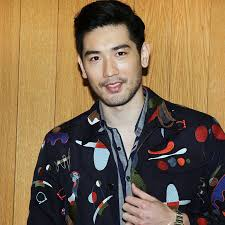asian_male: (69, 1, 156, 109)
